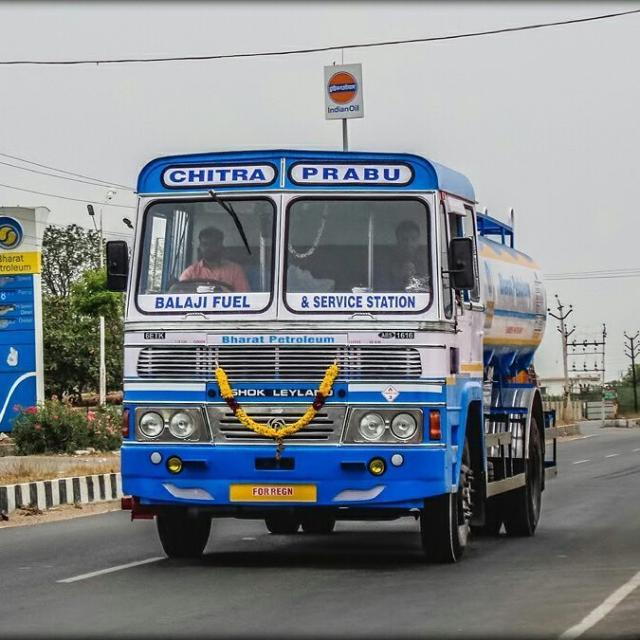Truck: (100, 148, 562, 569)
